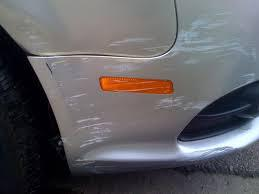front-bumper-dent: (35, 24, 242, 150)
